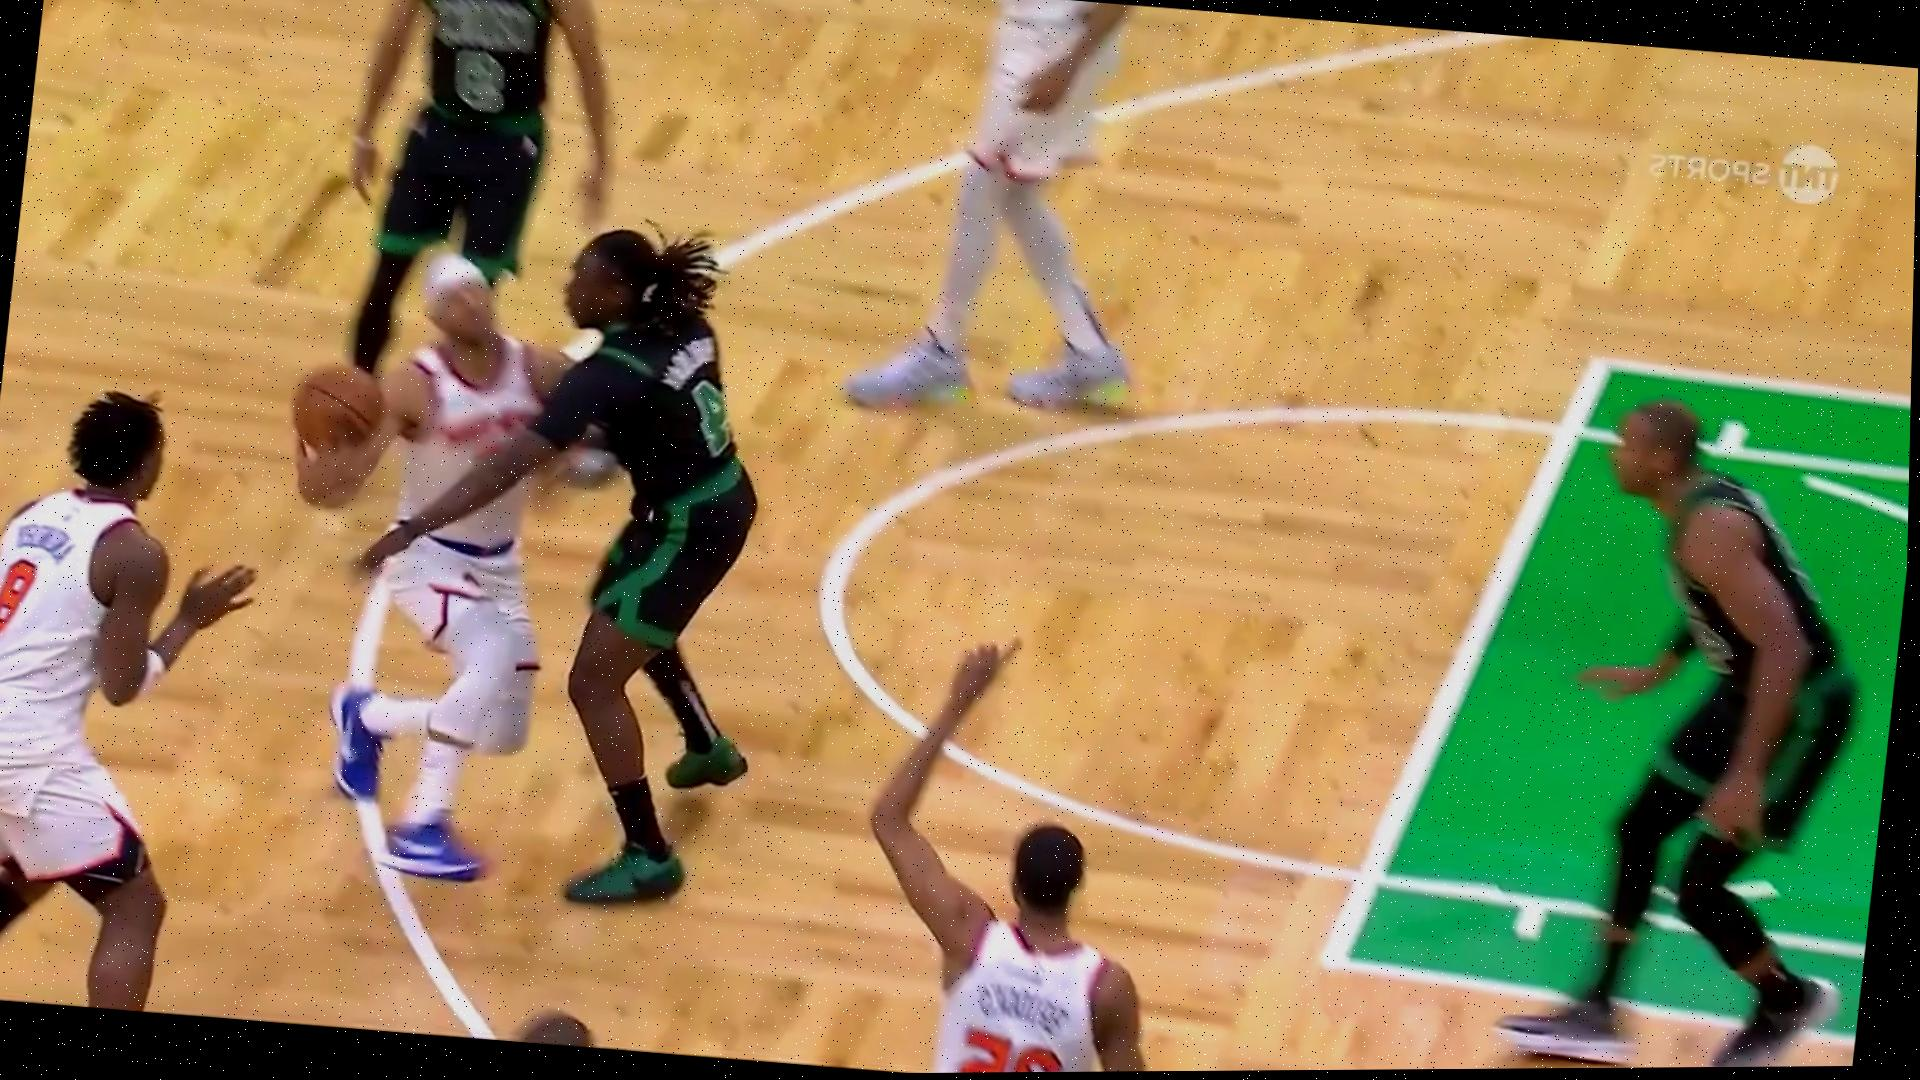foul: (206, 178, 804, 953)
